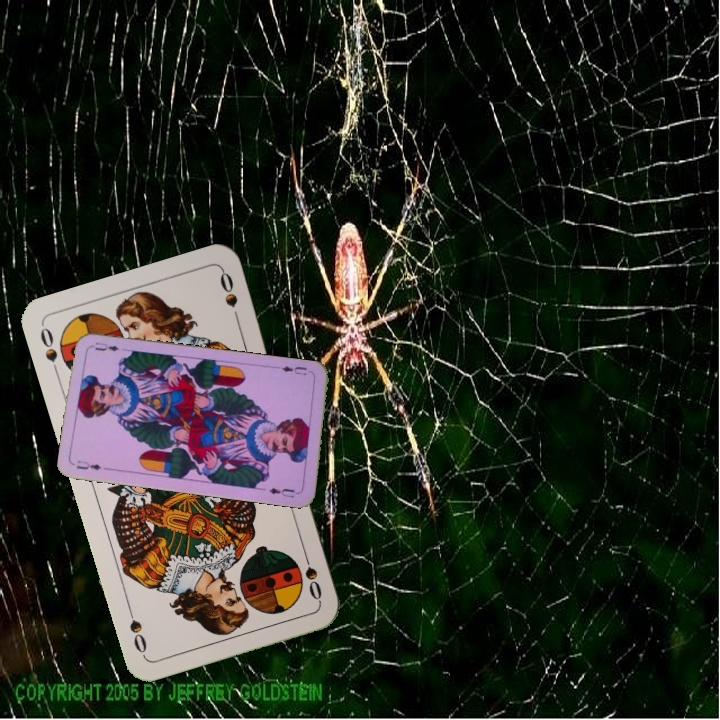EU: (73, 456, 104, 473), (278, 362, 309, 378)
SO: (298, 545, 325, 603), (36, 323, 62, 380)
